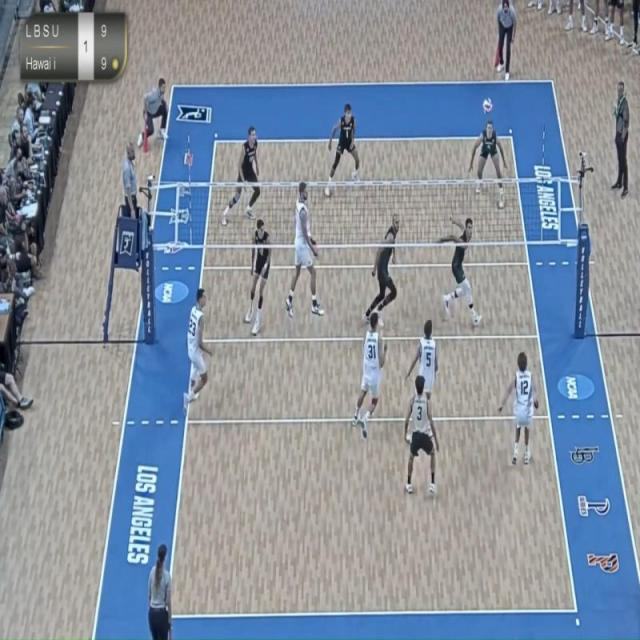volleyball: (480, 92, 494, 118)
